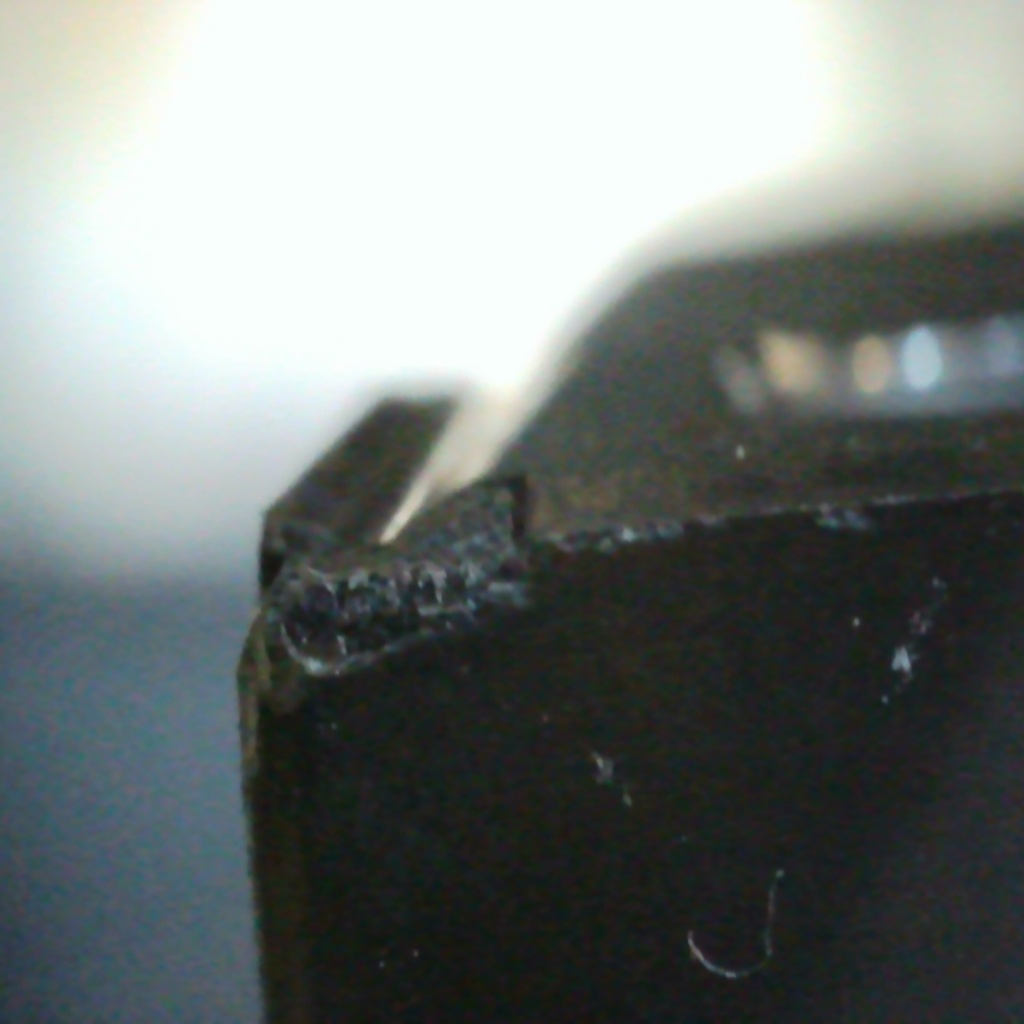flank_wear: (276, 553, 542, 683)
